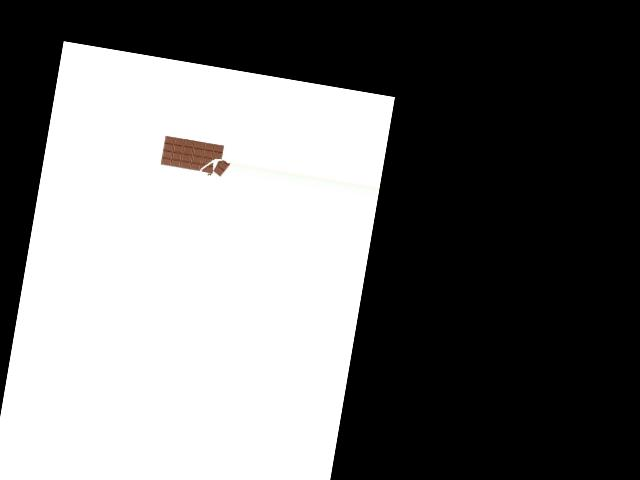chocolate: (158, 130, 234, 185)
